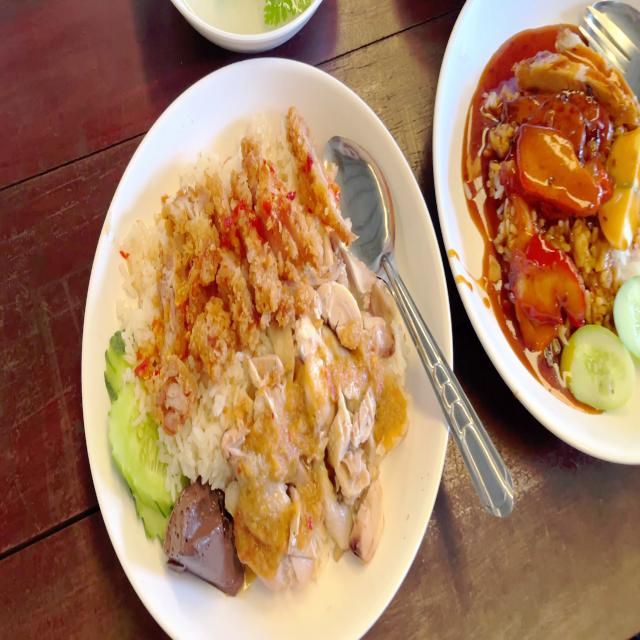boiled_chicken: (174, 243, 412, 592)
boiled_chicken_blood_jelly: (170, 485, 236, 590)
boiled_egg: (604, 128, 640, 245)
chainese_sausage: (525, 78, 602, 148)
chicken_rice: (104, 98, 414, 582)
crispy_pork: (513, 32, 640, 118)
cucumber: (104, 332, 172, 532), (565, 320, 639, 410), (614, 278, 640, 348)
fried_chicken: (133, 103, 369, 451)
red_pork: (508, 233, 584, 339), (517, 115, 597, 213)
red_pork_and_crispy_pork: (466, 23, 640, 412)
